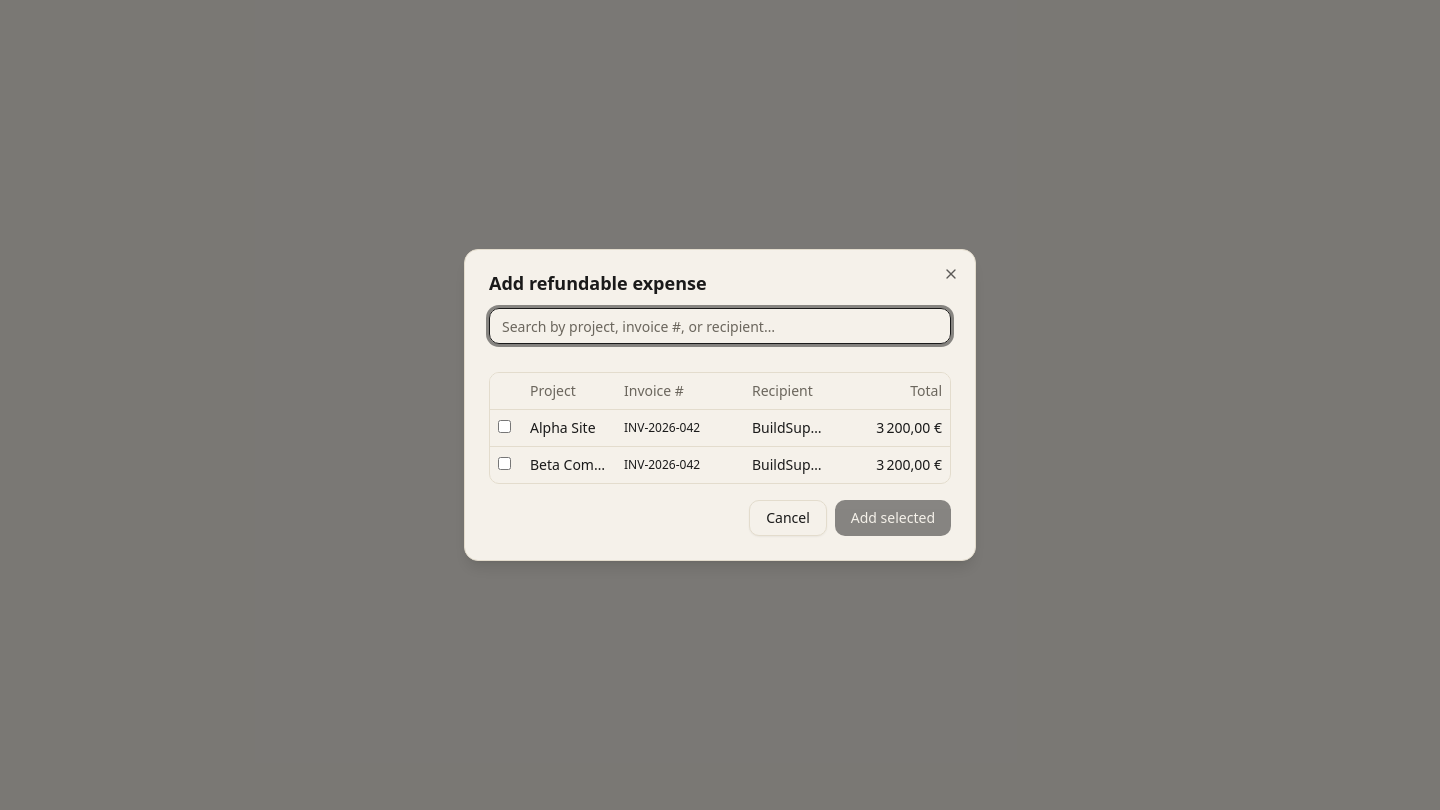
it: AddRefundableExpenseDialog › search filters rows by project name
Expected: the text "Alpha Site" is shown, 522,410 -> 616,446
Type "beta" into the field.
click(720, 326); type("beta")  # box 489,308 -> 951,344
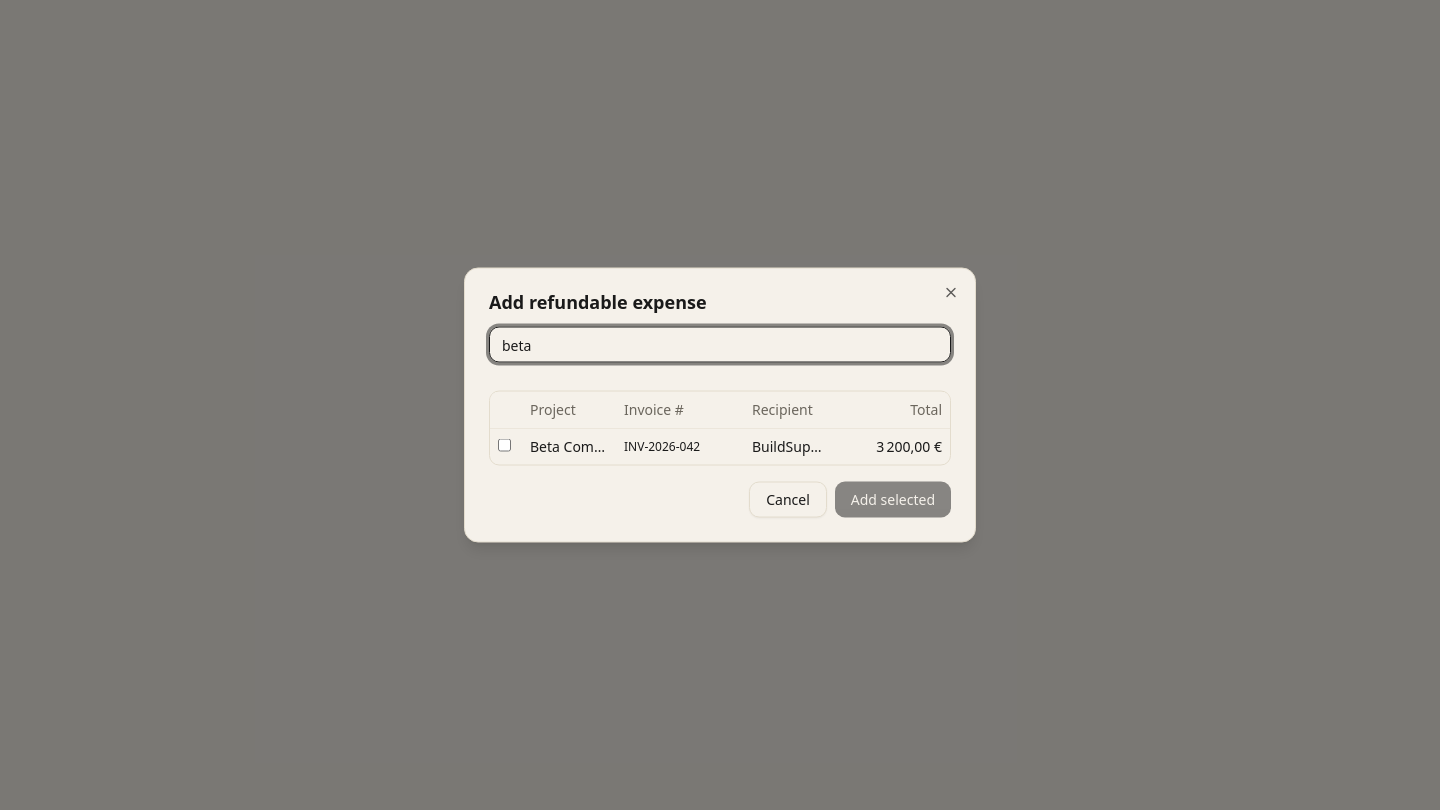
Expected: the text "Beta Complex" is shown, 522,428 -> 616,464
Expected: the text "Alpha Site" is gone
